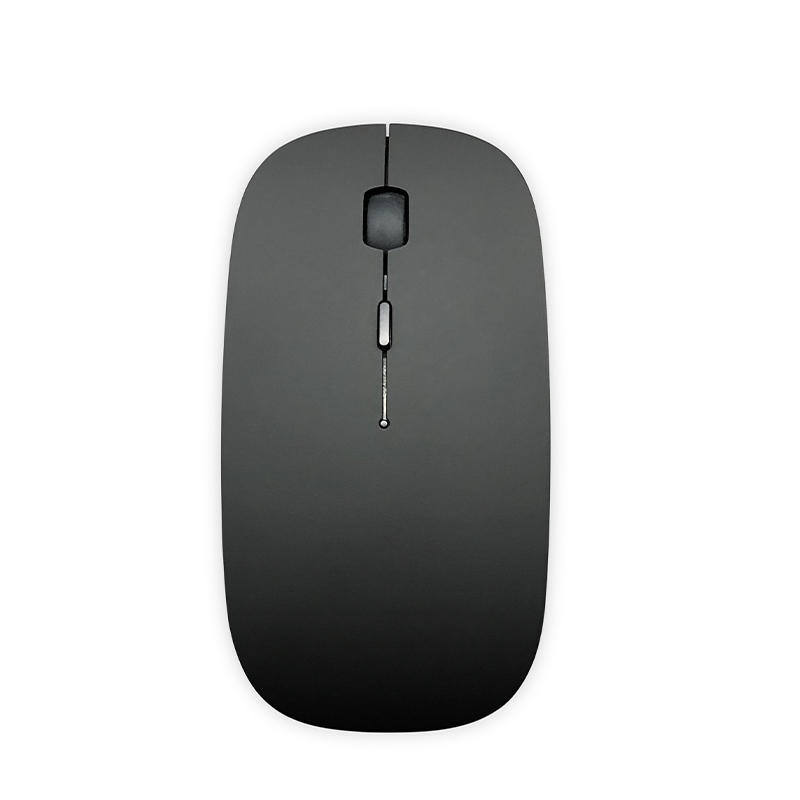mouse: (191, 109, 583, 759)
